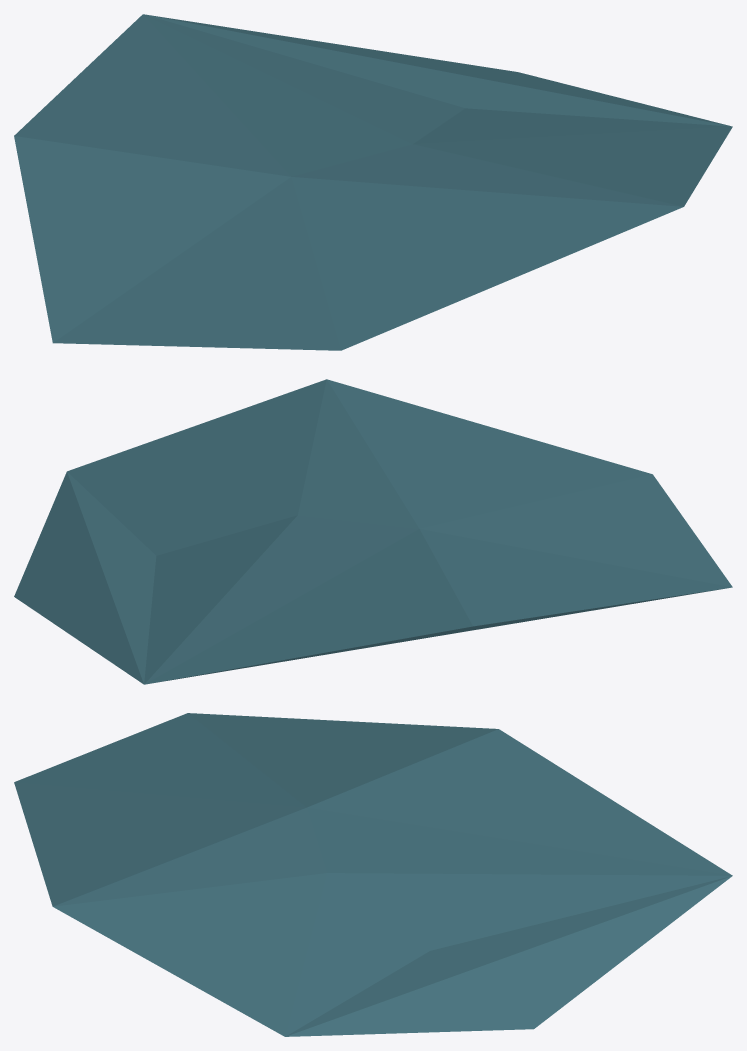
File: m_ice.glb
3 views of the same model, one above another, from view 1: azimuth 30°, elevation 25°; view 2: azimuth 150°, elevation 25°; view 3: azimuth 270°, elevation 25° (orthographic). The views are drawn at different scales.
Parts seen in each view (by area): view 1: M_Ice; view 2: M_Ice; view 3: M_Ice.
Boxes of the visible parts, x1,y1,x2,y2 form: M_Ice: (14, 14, 732, 350); M_Ice: (14, 379, 732, 684); M_Ice: (14, 713, 732, 1036).
Size of the model in its own units: 1.42 by 0.1592 by 1.34.
